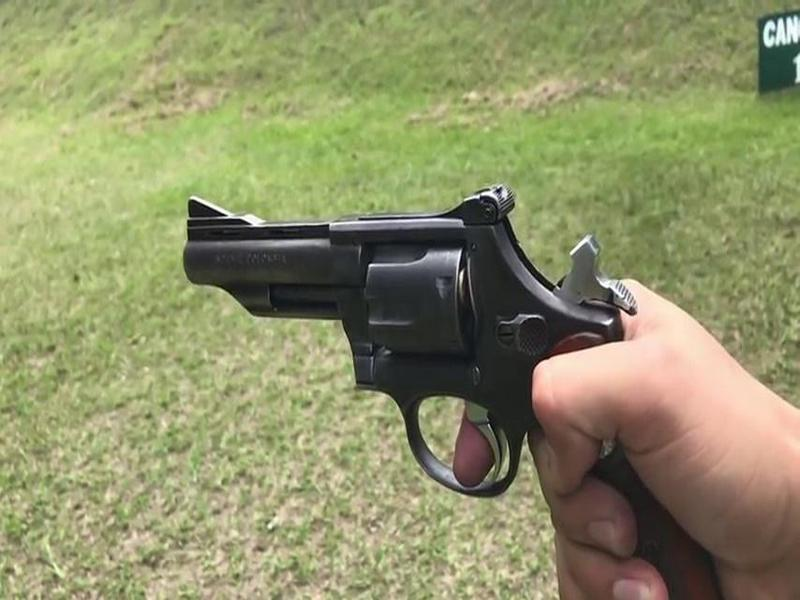Revolver: (172, 170, 651, 600)
